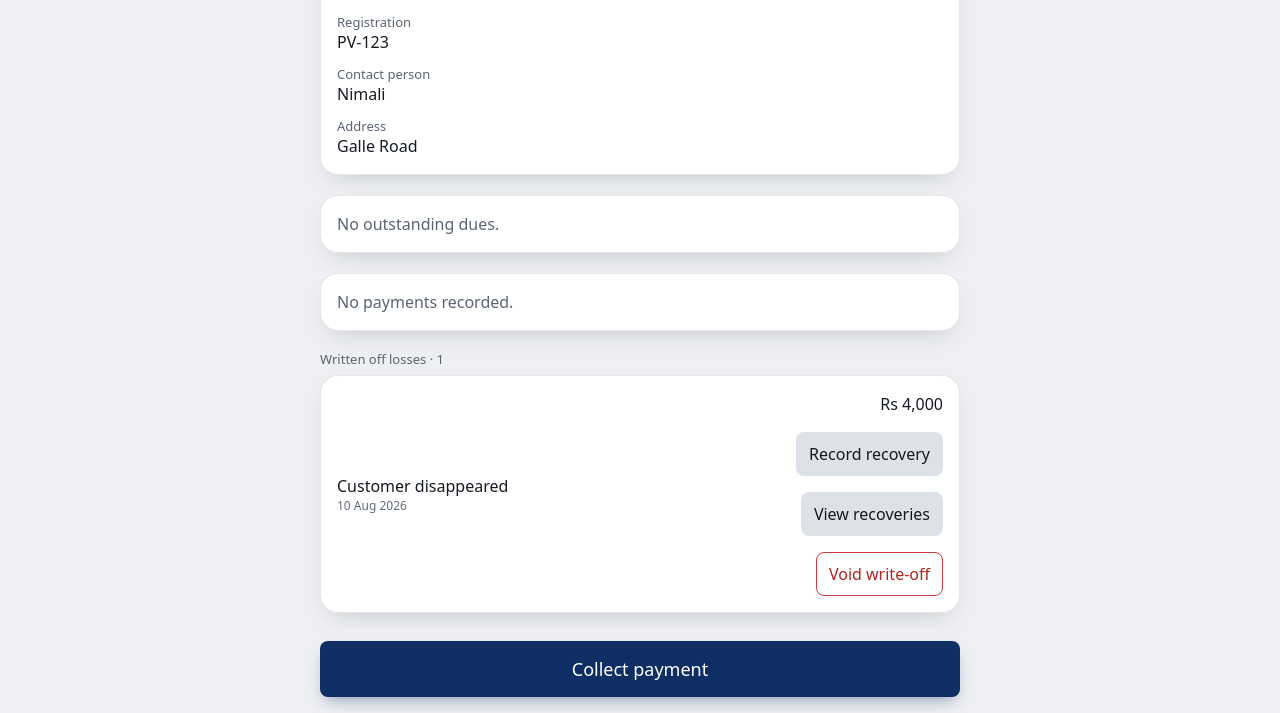
Test case: GAP-147: View recoveries opens the recoveries sheet for the right write-off
(page scrolled)
Expected: the heading "Written off losses · 1" is shown, [320, 351, 444, 367]
Click the button "View recoveries" at [872, 514], box [801, 492, 943, 536]
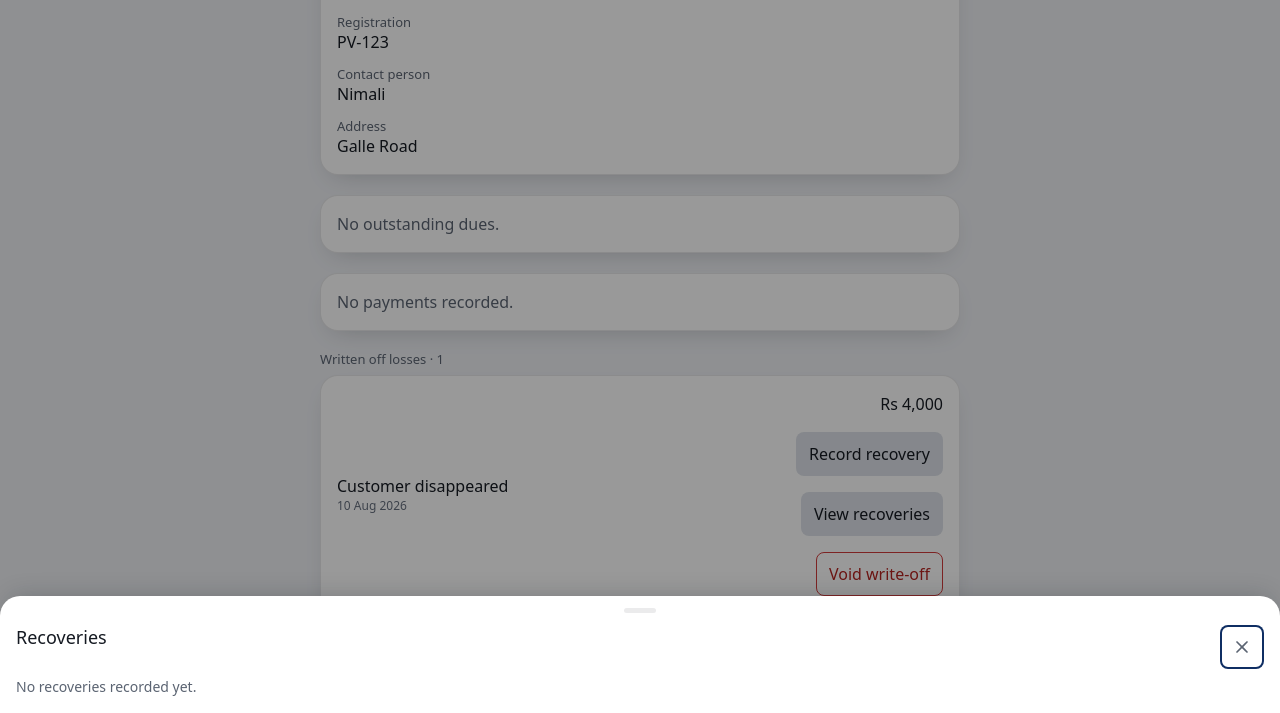
Now the text "No recoveries recorded yet." is shown, box [16, 677, 196, 696]
